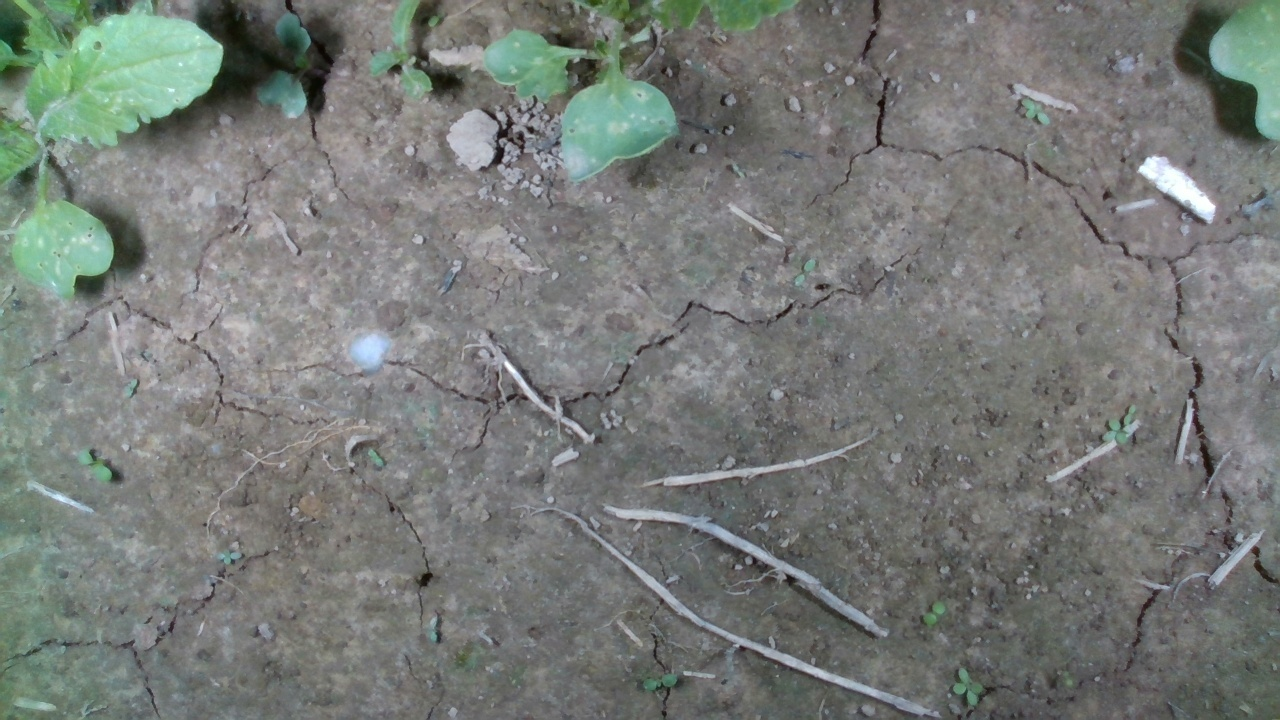weed: (949, 666, 985, 707), (76, 449, 113, 482), (1018, 96, 1051, 126), (641, 671, 679, 693), (792, 256, 816, 287), (922, 598, 947, 625), (212, 546, 242, 566)
